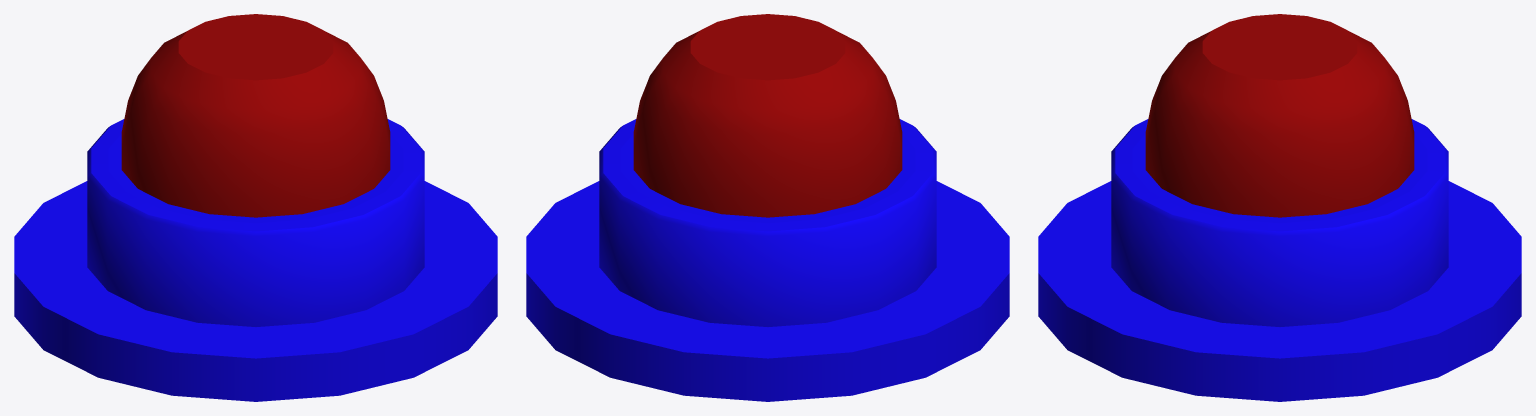
The model's file is linterna bote.fbx.
3 renders of one model, left to right at view 1: azimuth 30°, elevation 25°; view 2: azimuth 150°, elevation 25°; view 3: azimuth 270°, elevation 25°, orthographic.
Parts seen in each view (by area): view 1: Cylinder013, Object088; view 2: Cylinder013, Object088; view 3: Cylinder013, Object088.
Part boxes in pixels (<box>): Cylinder013: <box>14,119,497,401</box>; Object088: <box>121,14,390,217</box>; Cylinder013: <box>526,119,1009,401</box>; Object088: <box>633,14,902,217</box>; Cylinder013: <box>1038,119,1521,401</box>; Object088: <box>1145,14,1414,217</box>.
Bounding box in the file's own units: 8.06 × 4.54 × 7.93.
